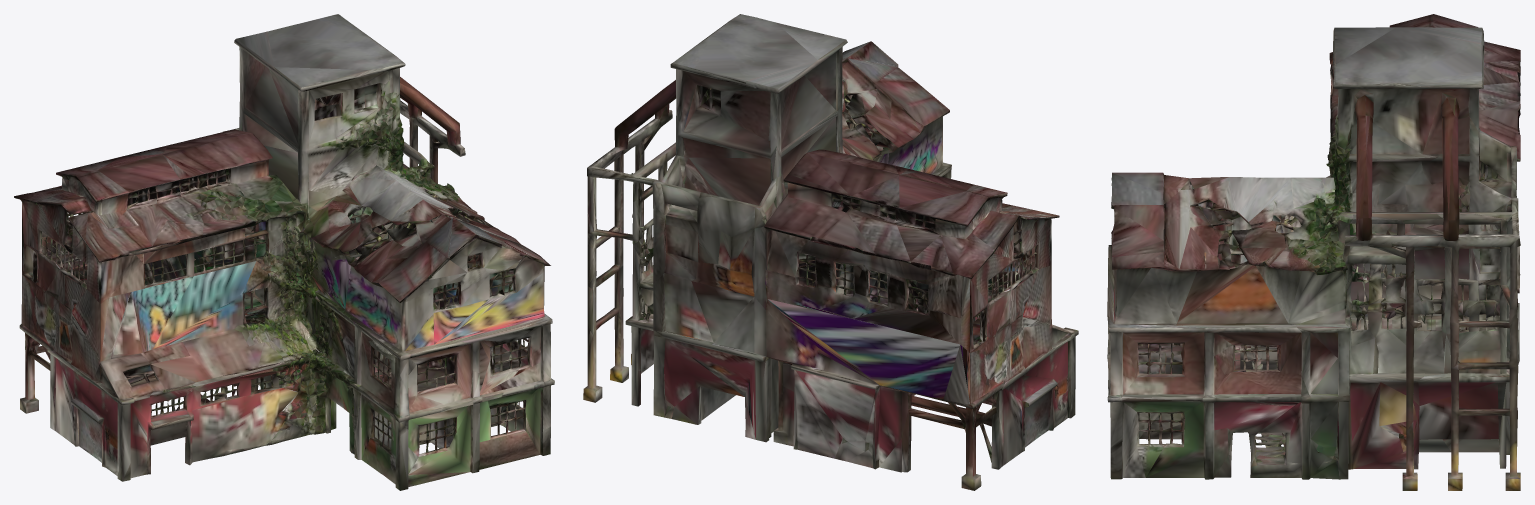
The model's file is ind-decay.glb.
3 renders of one model, left to right at view 1: azimuth 30°, elevation 25°; view 2: azimuth 150°, elevation 25°; view 3: azimuth 270°, elevation 25°, orthographic. The views are drawn at different scales.
Visible parts, largest first — view 1: Body; view 2: Body; view 3: Body.
Boxes of the visible parts, x1,y1,x2,y2 form: Body: [14, 14, 554, 490]; Body: [583, 14, 1078, 490]; Body: [1107, 14, 1520, 490].
Size of the model in its own units: 35.64 by 30 by 30.29.
1 material, 1 textured.
